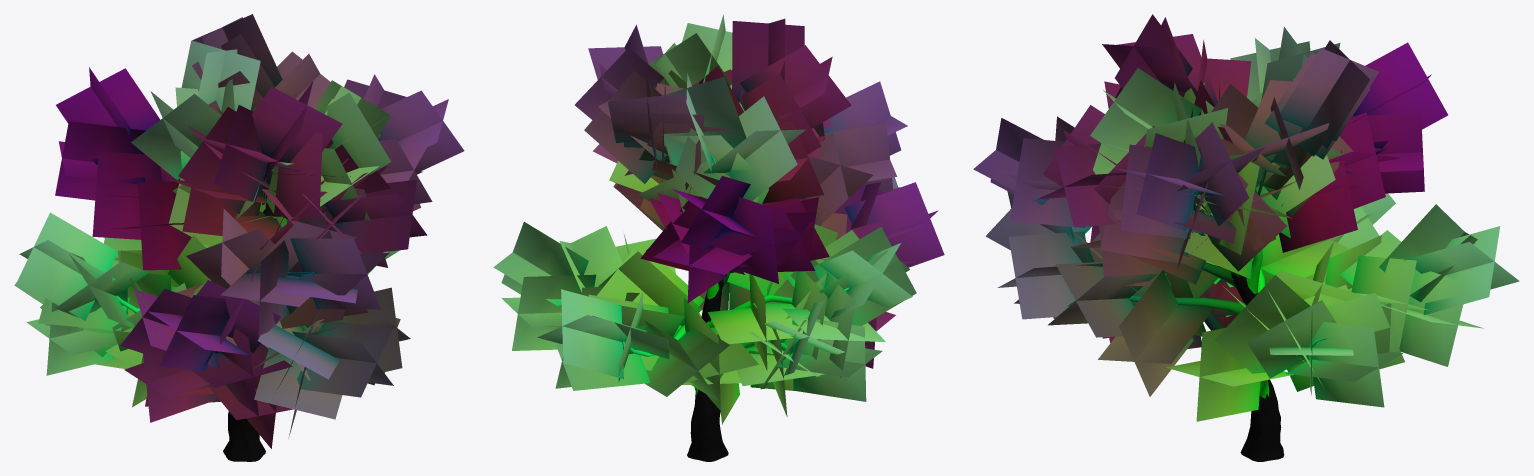
Rendered from URP_Tree_1_LOD_0.fbx.
3 renders of one model, left to right at view 1: azimuth 30°, elevation 25°; view 2: azimuth 150°, elevation 25°; view 3: azimuth 270°, elevation 25°, orthographic. The views are drawn at different scales.
Visible parts, largest first — view 1: Tree_1_LOD_0; view 2: Tree_1_LOD_0; view 3: Tree_1_LOD_0.
Boxes of the visible parts, x1,y1,x2,y2 form: Tree_1_LOD_0: (14,14,464,461); Tree_1_LOD_0: (493,14,944,461); Tree_1_LOD_0: (973,14,1519,461).
Bounding box in the file's own units: 591 × 572 × 667.
